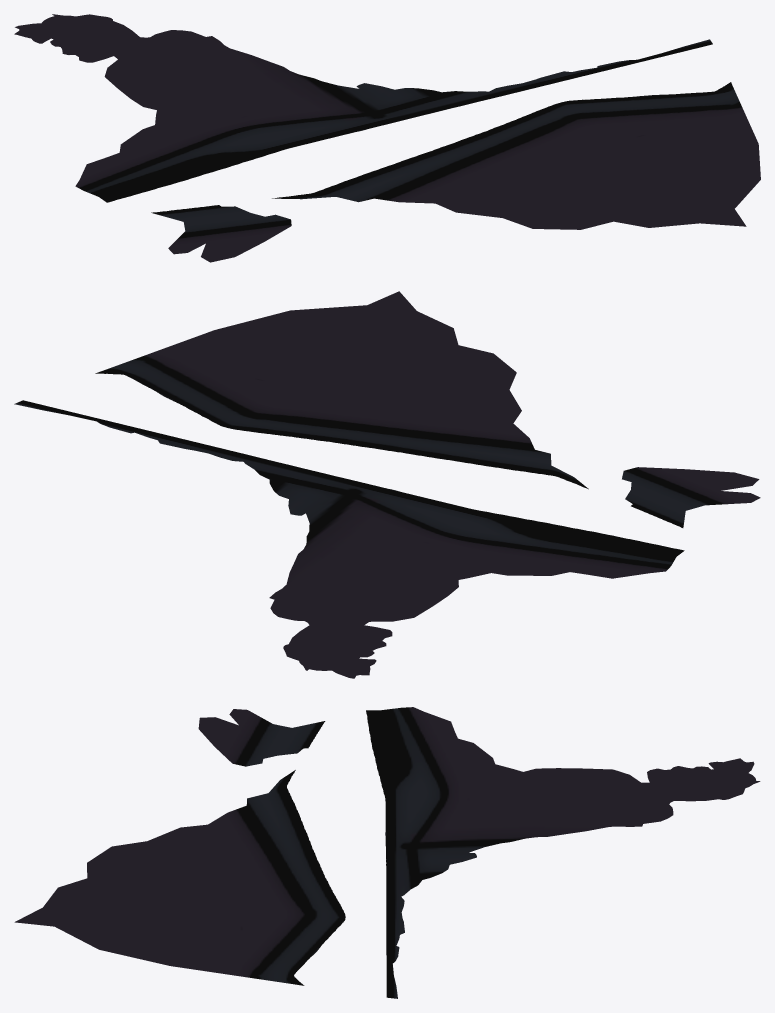
Rendered from Background2.fbx.
3 views of the same model, one above another, from view 1: azimuth 30°, elevation 25°; view 2: azimuth 150°, elevation 25°; view 3: azimuth 270°, elevation 25° (orthographic). The views are drawn at different scales.
Parts seen in each view (by area): view 1: Plane.002; view 2: Plane.002; view 3: Plane.002.
Boxes of the visible parts, x1=… form: Plane.002: x1=14, y1=14, x2=760, y2=262; Plane.002: x1=14, y1=291, x2=760, y2=678; Plane.002: x1=14, y1=707, x2=760, y2=998.
Size of the model in its own units: 77.18 by 1.36e-05 by 83.47.
